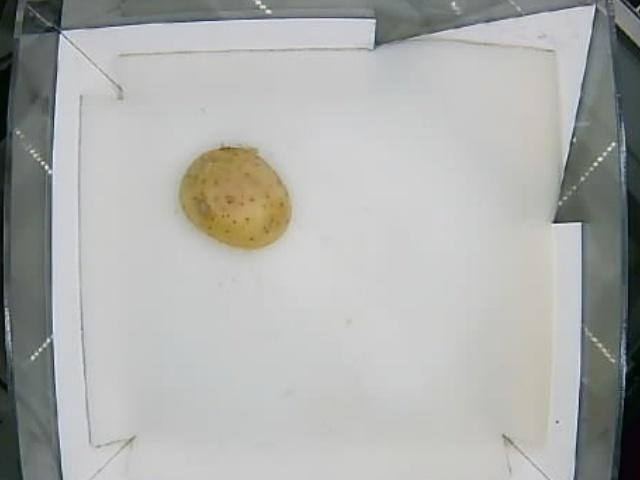Potato: (178, 146, 293, 250)
